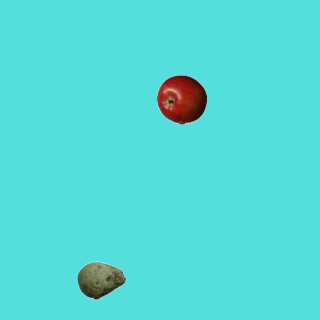Apple Braeburn: (156, 74, 206, 124)
Pear Stone: (76, 255, 126, 305)
